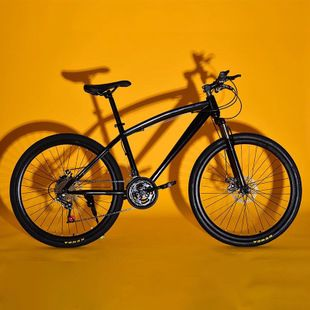单车: (8, 56, 310, 273)
